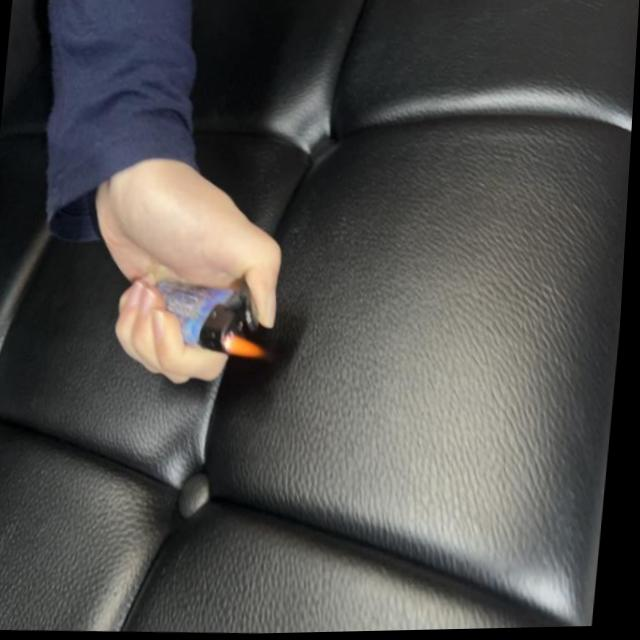Fire: (222, 329, 276, 361)
